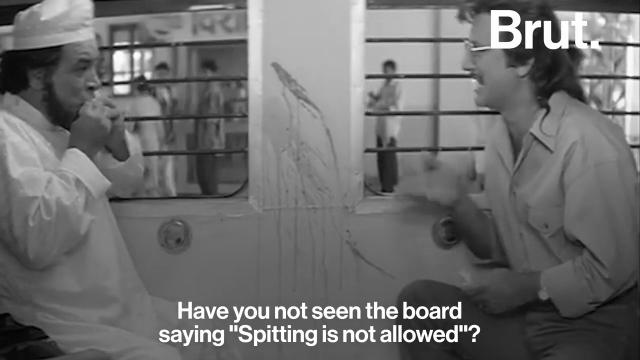spit: (256, 52, 392, 278)
